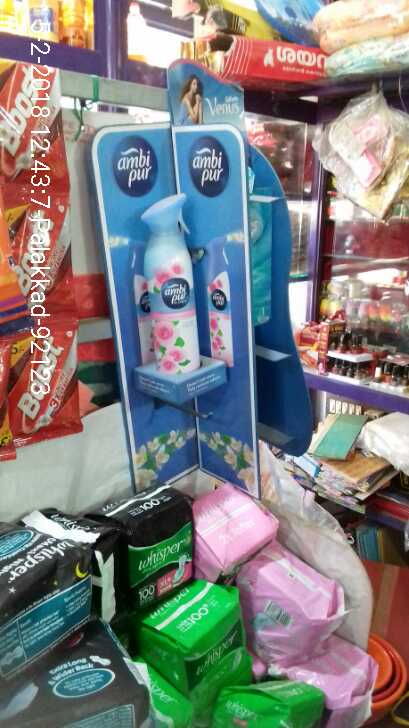home: (133, 184, 212, 383)
pharmacy: (1, 498, 104, 656), (148, 578, 246, 691), (106, 507, 201, 593)
